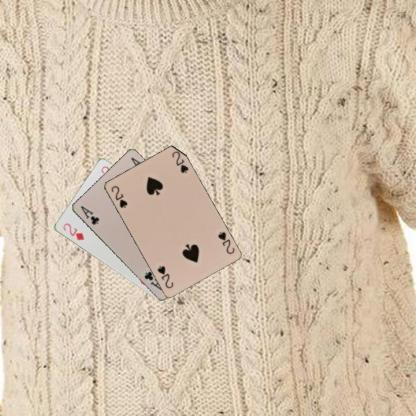2d: (60, 221, 85, 242)
2s: (215, 229, 236, 255), (108, 183, 128, 209)
Ac: (78, 203, 101, 226)
